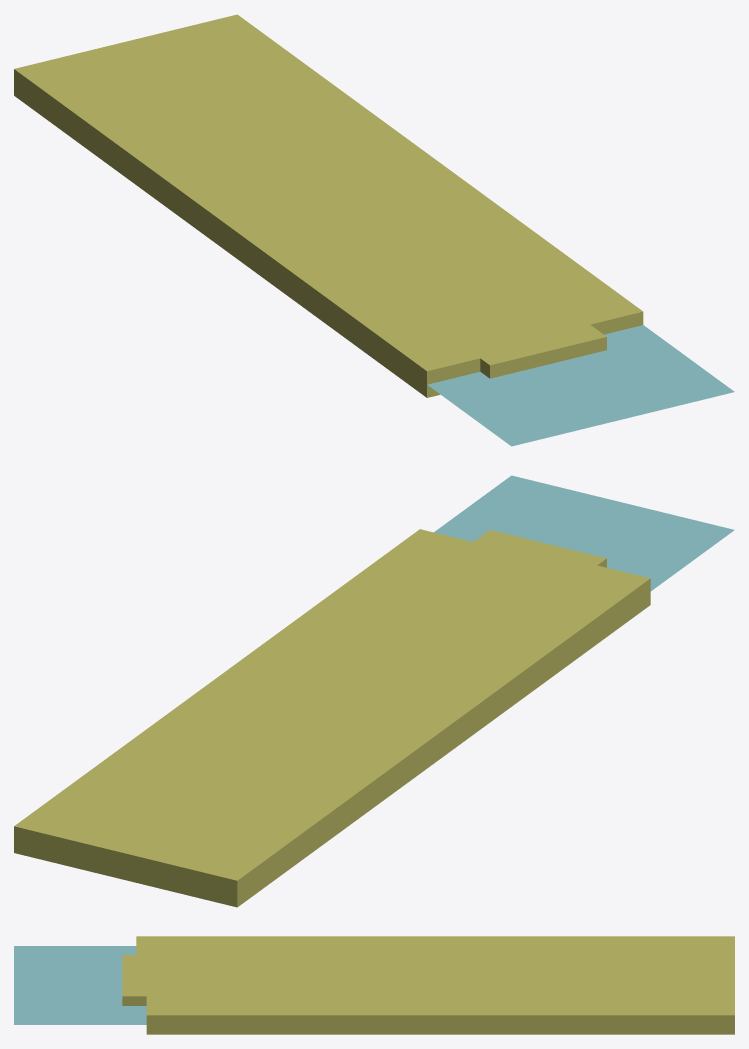
The model's file is Tile_Beach_02.fbx.
3 views of the same model, one above another, from view 1: azimuth 30°, elevation 25°; view 2: azimuth 150°, elevation 25°; view 3: azimuth 270°, elevation 25° (orthographic). The views are drawn at different scales.
Visible parts, largest first — view 1: Strand_02, Water2; view 2: Strand_02, Water2; view 3: Strand_02, Water2.
Part boxes in pixels (x1=…): Strand_02: x1=14, y1=14, x2=643, y2=397; Water2: x1=427, y1=325, x2=734, y2=446; Strand_02: x1=14, y1=529, x2=650, y2=907; Water2: x1=434, y1=475, x2=734, y2=591; Strand_02: x1=122, y1=936, x2=734, y2=1034; Water2: x1=14, y1=946, x2=146, y2=1024.
Size of the model in its own units: 35 by 4 by 135.
